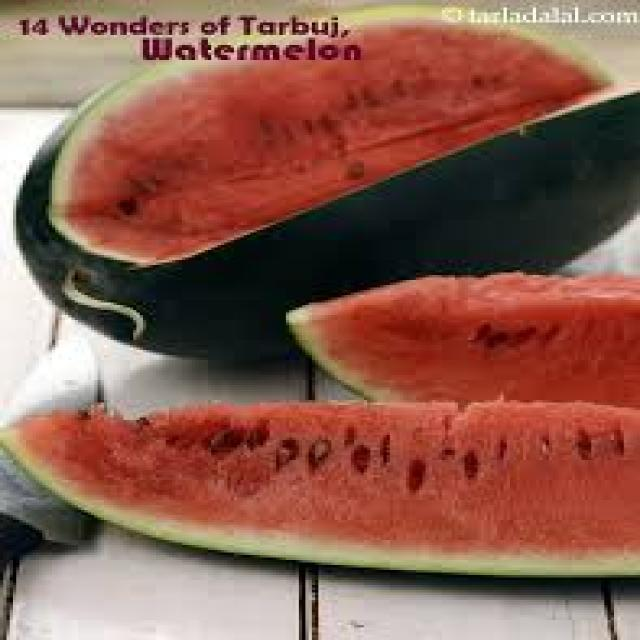watermelon: (13, 15, 637, 360), (0, 395, 637, 580), (283, 267, 636, 425)
